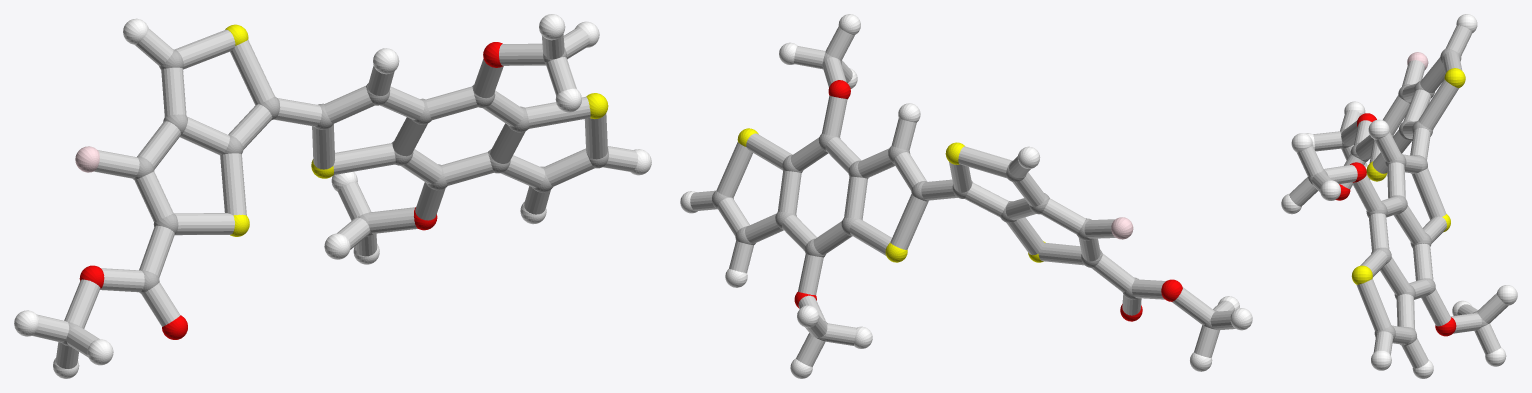
The model's file is Dimethoxy_Benzodithiophene_Phi_5_Theta_60_Methylcarbonyl_3_Fluoro_Thienothiophene.glb.
The picture shows the model from 3 angles, left to right: view 1: azimuth 30°, elevation 25°; view 2: azimuth 150°, elevation 25°; view 3: azimuth 270°, elevation 25°; orthographic projection. The views are drawn at different scales.
Parts seen in each view (by area): view 1: grp15205, grp8689, grp1, grp13395, grp7241, grp14843; view 2: grp15205, grp8689, grp1, grp13395, grp7241; view 3: grp15205, grp8689, grp1, grp7241, grp13395.
Part boxes in pixels (x1,y1,x2,y2): grp15205: (32,27,637,368); grp8689: (14,14,651,378); grp1: (61,48,608,346); grp13395: (79,42,502,339); grp7241: (225,24,608,236); grp14843: (75,146,99,172); grp15205: (690,26,1235,366); grp8689: (680,14,1252,378); grp1: (712,52,1218,341); grp13395: (794,80,1182,321); grp7241: (737,128,1045,262); grp15205: (1289,25,1508,368); grp8689: (1281,14,1517,378); grp1: (1308,48,1488,345); grp7241: (1351,68,1465,284); grp13395: (1336,113,1456,336).
Size of the model in its own units: 17.11 by 8.07 by 6.73.
